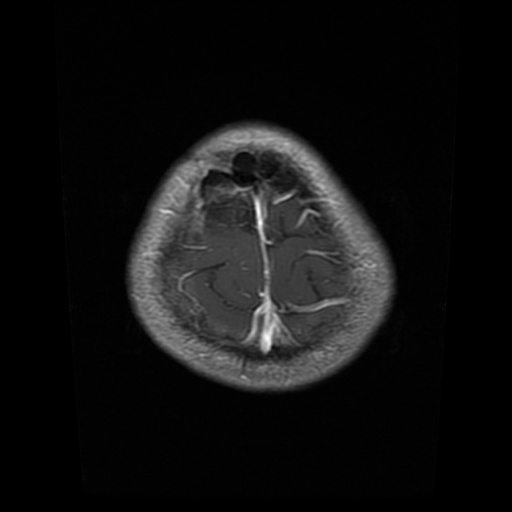glioma: (201, 152, 304, 234)
